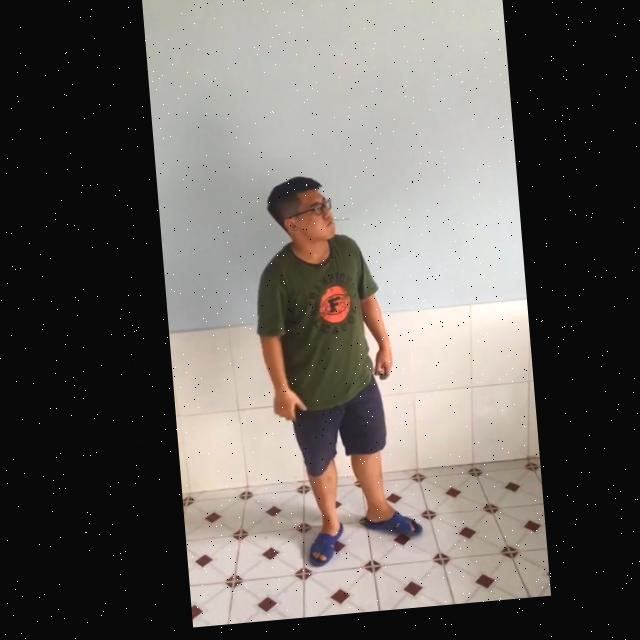cigarette: (326, 224, 346, 229)
